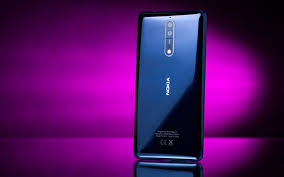nokia: (131, 11, 207, 169)
